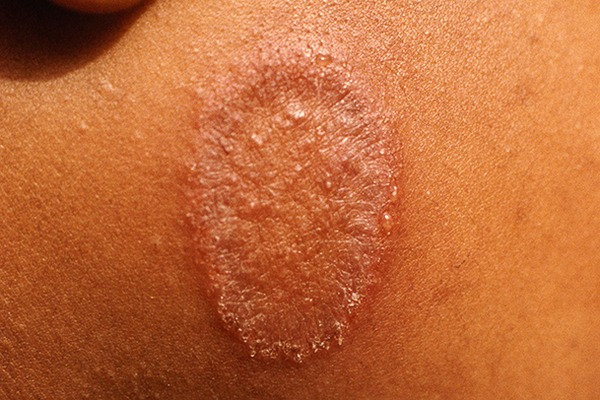Ringworm: (158, 51, 422, 369)
